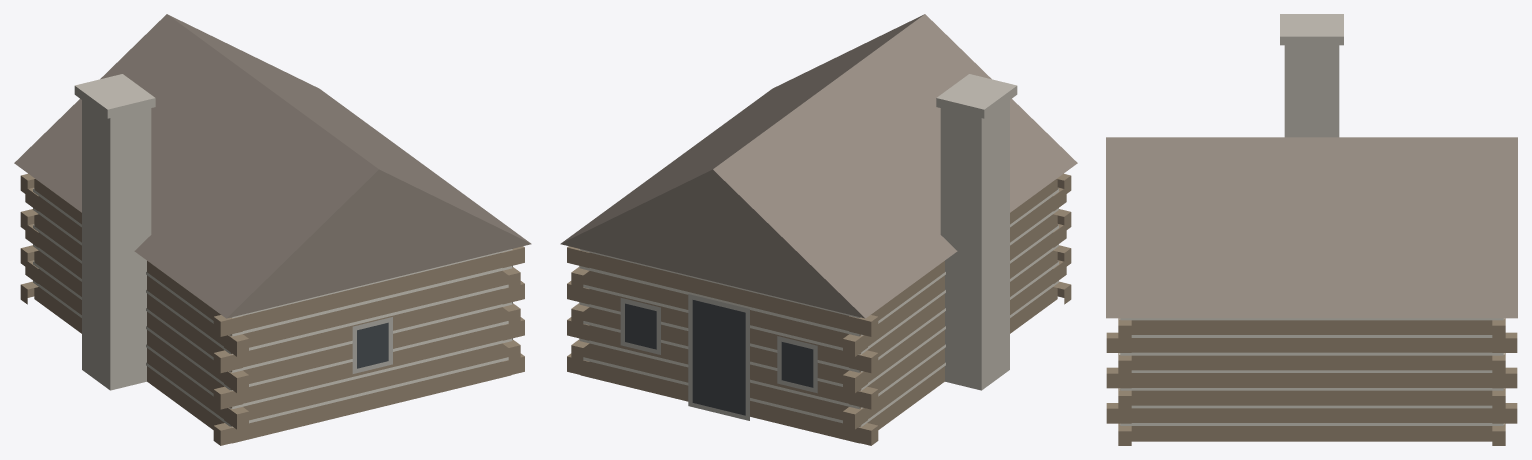
File: recon_1835_north_d1_053__inferred_1835.glb
The picture shows the model from 3 angles, left to right: view 1: azimuth 30°, elevation 25°; view 2: azimuth 150°, elevation 25°; view 3: azimuth 270°, elevation 25°; orthographic projection. The views are drawn at different scales.
Parts seen in each view (by area): view 1: recon_1835_north_d1_053__inferred_1835; view 2: recon_1835_north_d1_053__inferred_1835; view 3: recon_1835_north_d1_053__inferred_1835.
Boxes of the visible parts, bbox=[...] form: recon_1835_north_d1_053__inferred_1835: bbox=[14, 14, 531, 445]; recon_1835_north_d1_053__inferred_1835: bbox=[560, 14, 1077, 445]; recon_1835_north_d1_053__inferred_1835: bbox=[1106, 14, 1517, 445].
Bounding box in the file's own units: 6.56 × 5.38 × 7.21.
